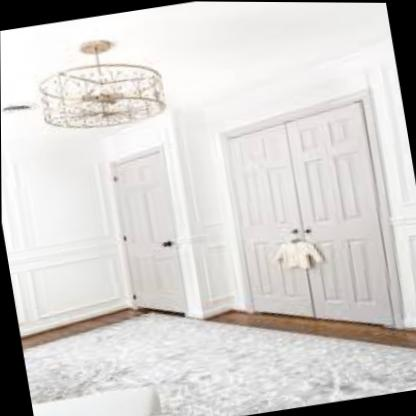Door: (219, 96, 398, 327), (104, 147, 187, 317)
